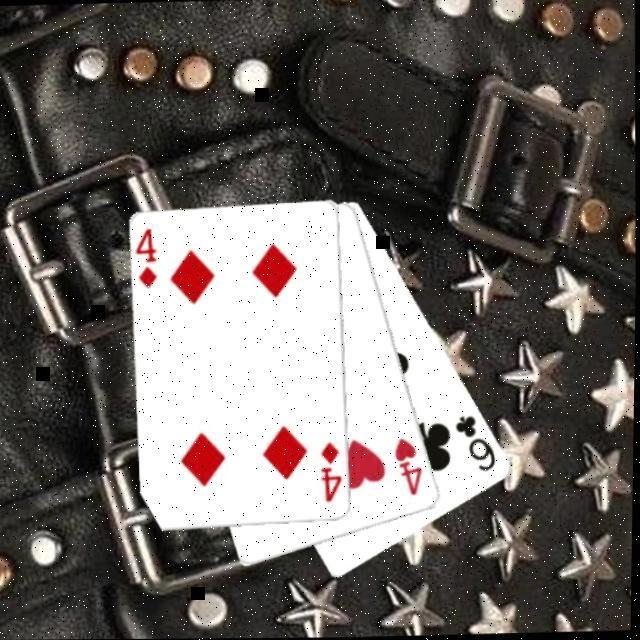4D: (320, 441, 348, 507), (136, 227, 163, 293)
4H: (394, 436, 430, 501)
6C: (455, 414, 504, 477)
